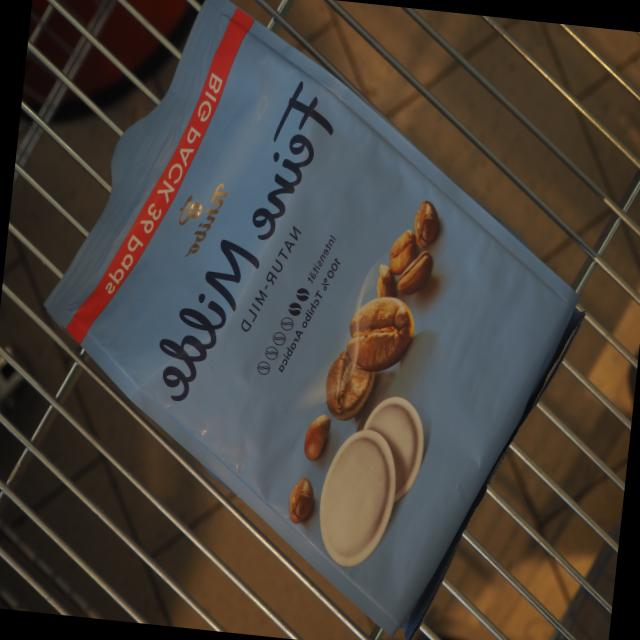FM 36 Pads: (3, 0, 624, 640)
